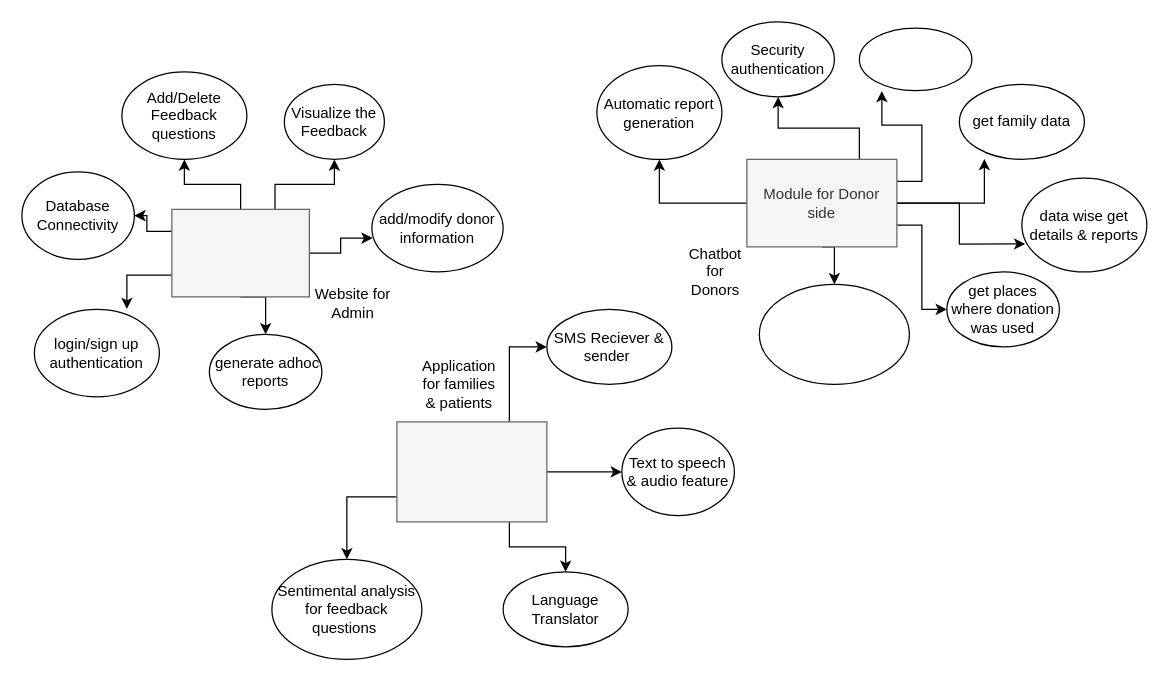
Image size: 1169x681. Some labels were removed from this diagram. The shapes that lost their labels are listed below. From the top down, each one's centre as x and y in pixels, then its label:
(x=915, y=59): Chatbot facility
(x=240, y=252): Module for Admin side
(x=833, y=333): can Upload their house pictures & verify using image processing
(x=471, y=471): Module for Family & Patient side
